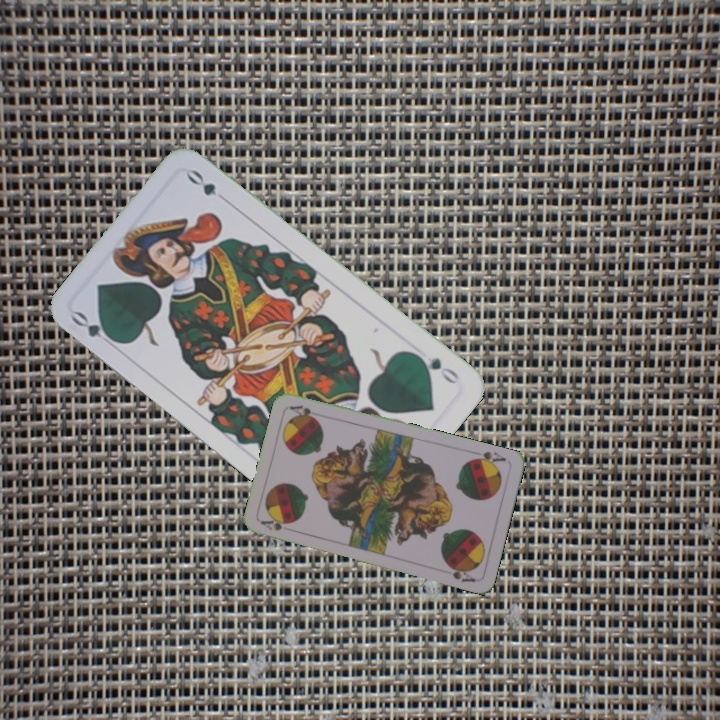GO: (67, 307, 122, 351), (410, 349, 462, 387)
SA: (468, 447, 508, 469), (257, 515, 293, 533)
